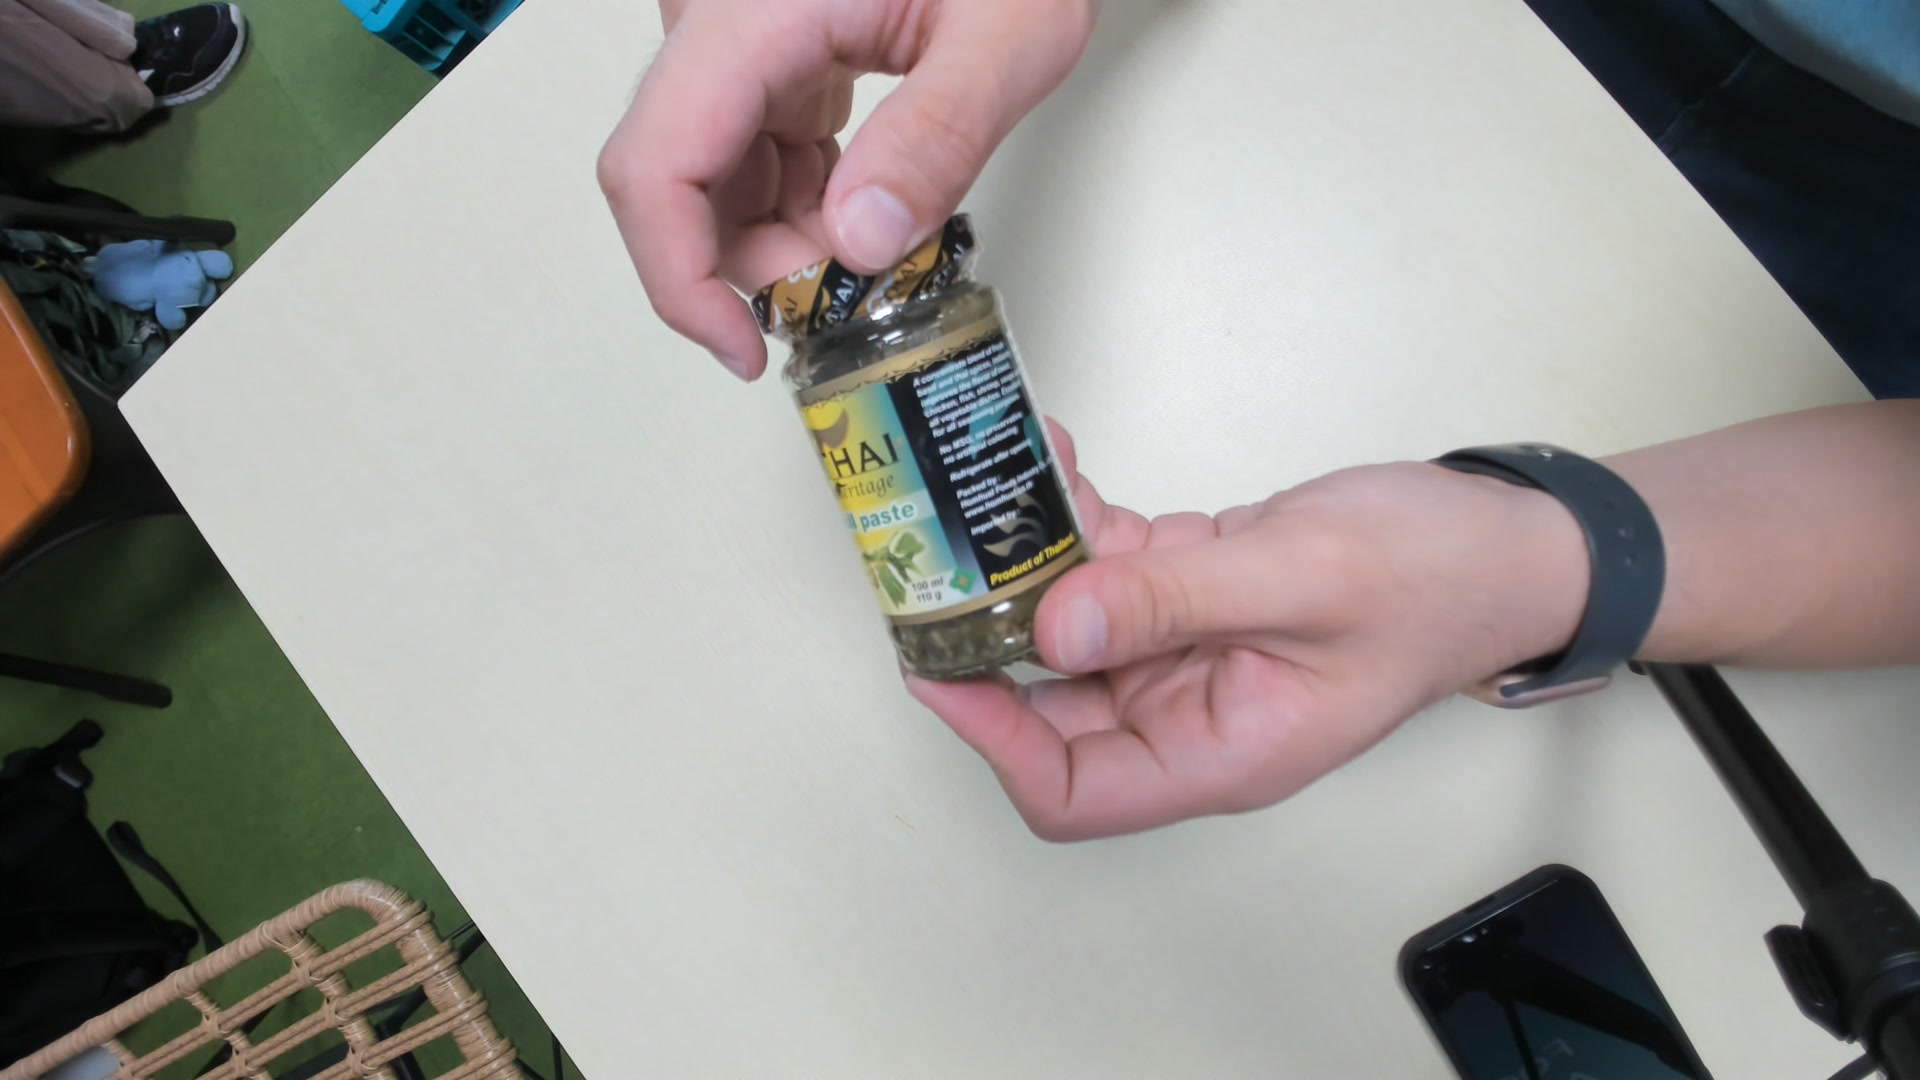OtherSauceDressing_0-99g_Halal_NonHealthy: (750, 215, 1100, 687)
